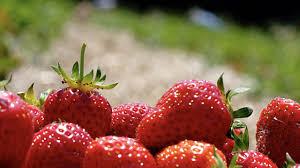ripe: (137, 76, 237, 148), (42, 78, 113, 140), (2, 87, 46, 164), (23, 120, 98, 165), (257, 90, 298, 163), (78, 131, 160, 167), (102, 104, 168, 136), (148, 141, 228, 166), (224, 147, 280, 167)
